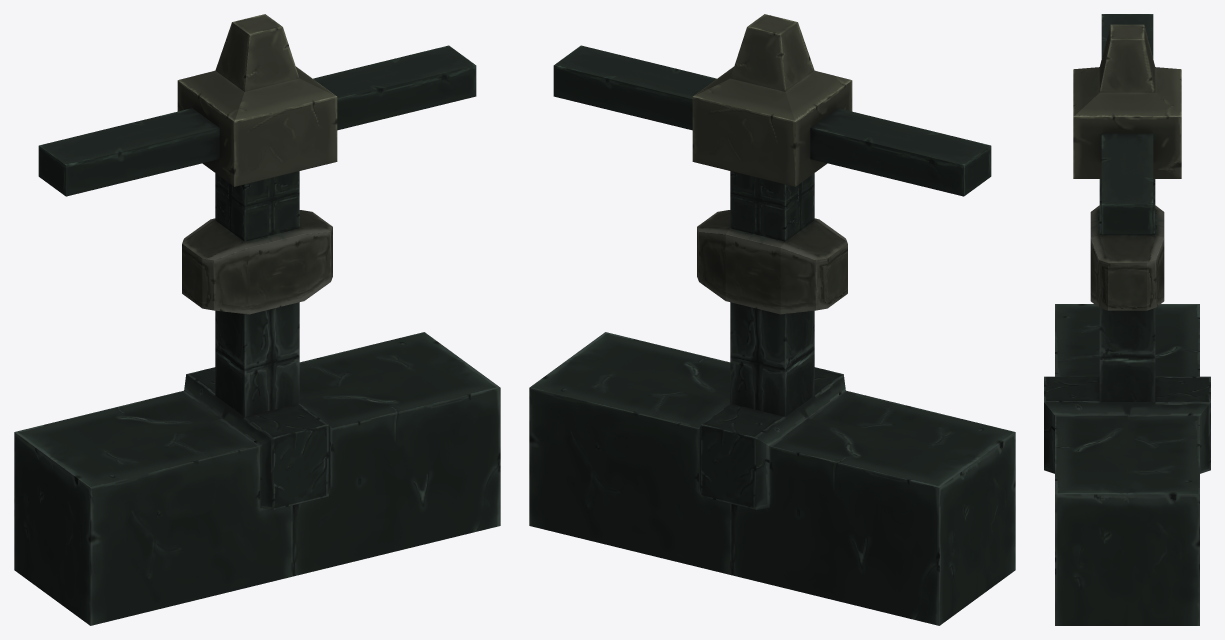
File: stoneFence1.fbx
3 views of the same model, side by side, from view 1: azimuth 30°, elevation 25°; view 2: azimuth 150°, elevation 25°; view 3: azimuth 270°, elevation 25° (orthographic). The views are drawn at different scales.
Parts seen in each view (by area): view 1: stoneFence1; view 2: stoneFence1; view 3: stoneFence1.
Part boxes in pixels (x1,y1,x2,y2): stoneFence1: (14,14,500,625); stoneFence1: (529,14,1015,625); stoneFence1: (1044,14,1210,625).
Bounding box in the file's own units: 621 × 758 × 230.
Materials: 1 (1 with a texture image).
